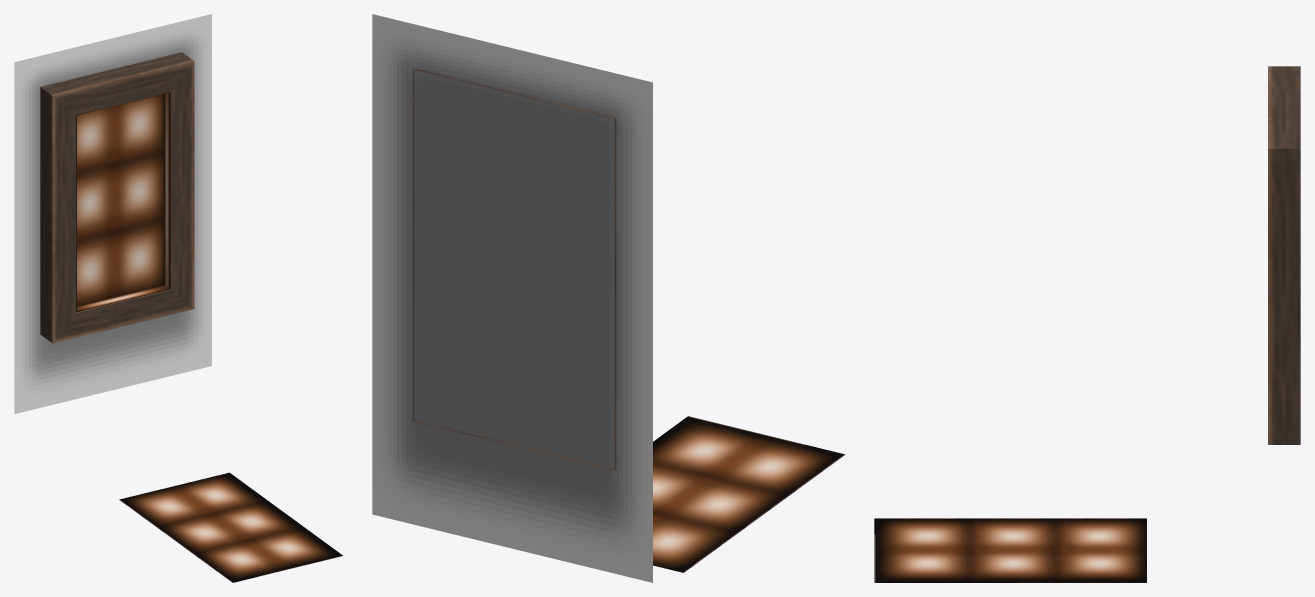
The model's file is Mansion window1.fbx.
3 views of the same model, side by side, from view 1: azimuth 30°, elevation 25°; view 2: azimuth 150°, elevation 25°; view 3: azimuth 270°, elevation 25° (orthographic). The views are drawn at different scales.
Parts seen in each view (by area): view 1: add, shadow, Mansion_window; view 2: shadow, add, Mansion_window; view 3: add, Mansion_window.
Boxes of the visible parts, x1,y1,x2,y2 form: add: [76, 92, 342, 582]; shadow: [14, 14, 211, 413]; Mansion_window: [40, 52, 194, 343]; shadow: [372, 14, 652, 582]; add: [653, 416, 845, 572]; Mansion_window: [413, 68, 616, 470]; add: [874, 518, 1146, 582]; Mansion_window: [1268, 66, 1300, 444].
Size of the model in its own units: 1 by 1.94 by 1.56.
